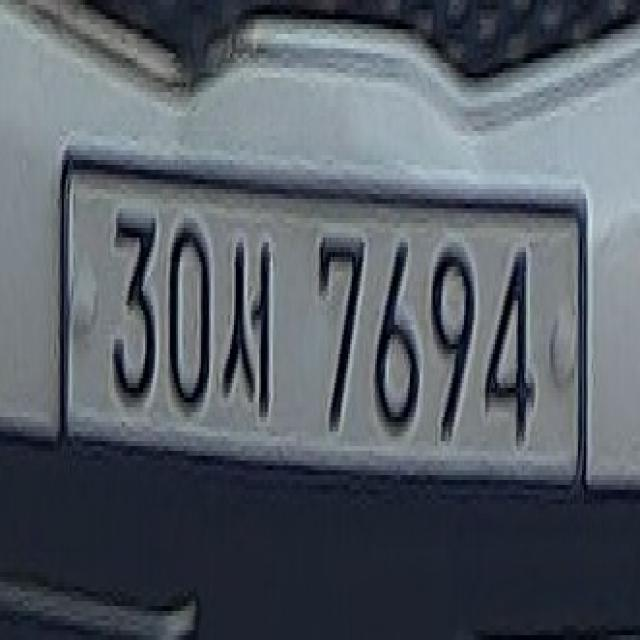0: (168, 213, 211, 412)
3: (112, 209, 161, 412)
4: (483, 242, 538, 446)
6: (371, 238, 420, 437)
7: (314, 228, 366, 436)
9: (425, 243, 476, 442)
license_plate: (56, 160, 588, 495)
seo: (220, 228, 278, 427)
